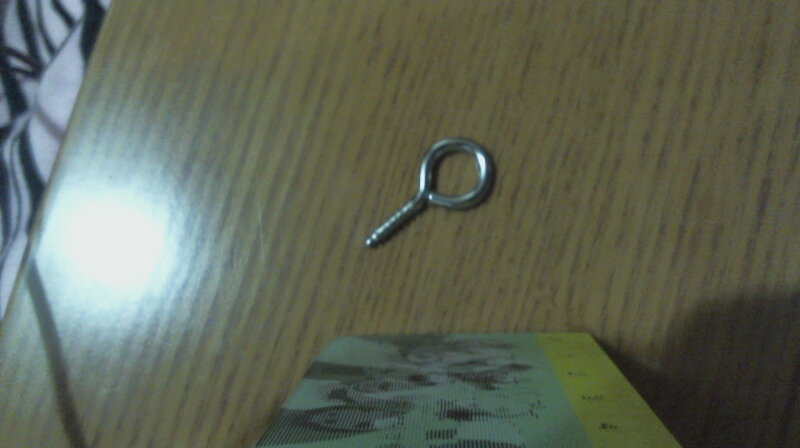O001: (359, 133, 499, 253)
